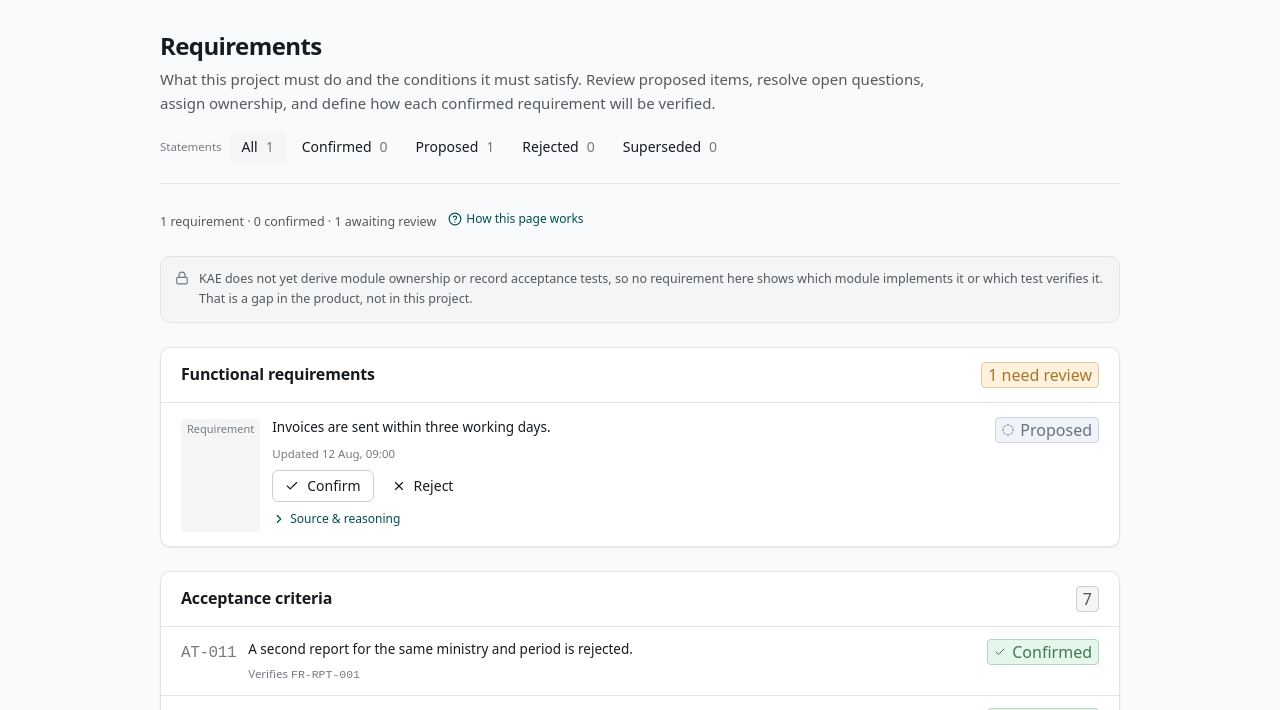
Scenario: acting on a statement where it is read › says a write failed rather than looking like it did nothing
The width and height of the screenshot is (1280, 710).
Step 1. Click the button "Confirm" → {"x": 323, "y": 486}, box left=272, top=470, right=374, bottom=502
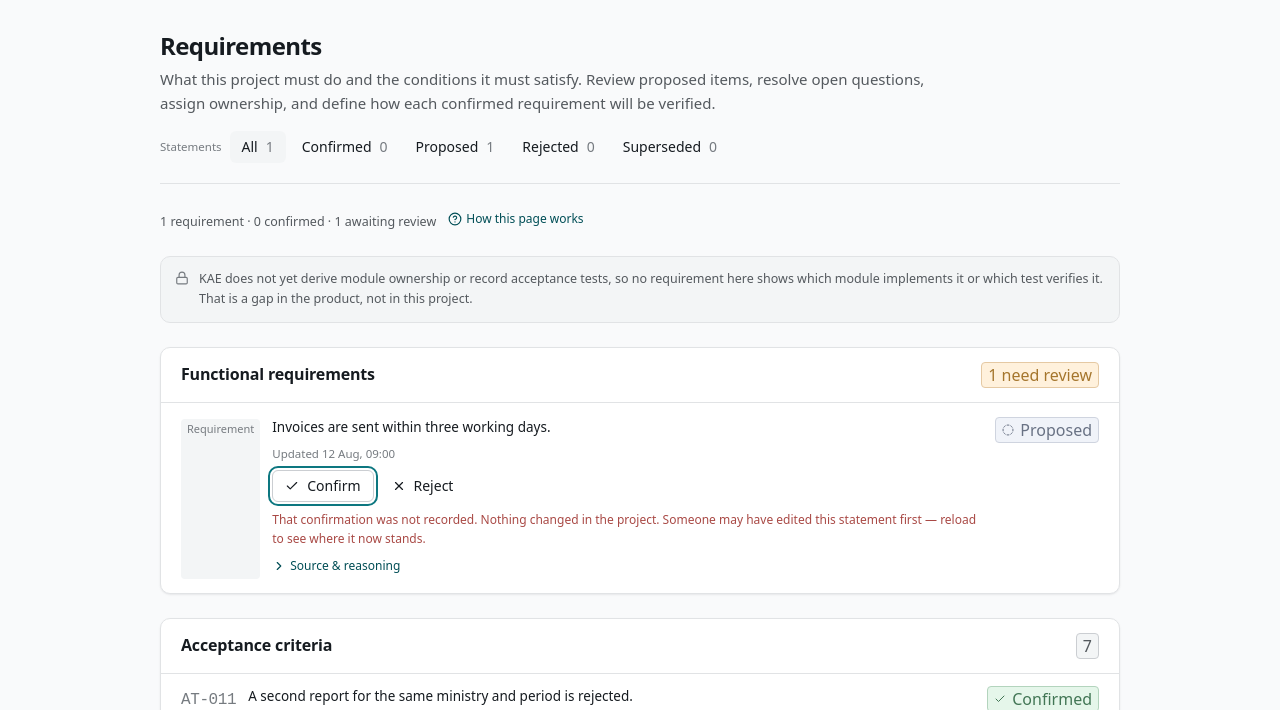
Expected: the message shows "was not recorded", left=272, top=511, right=659, bottom=528
